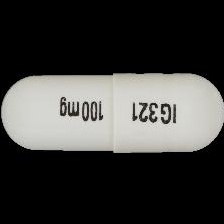69097-813: (0, 0, 224, 224)
